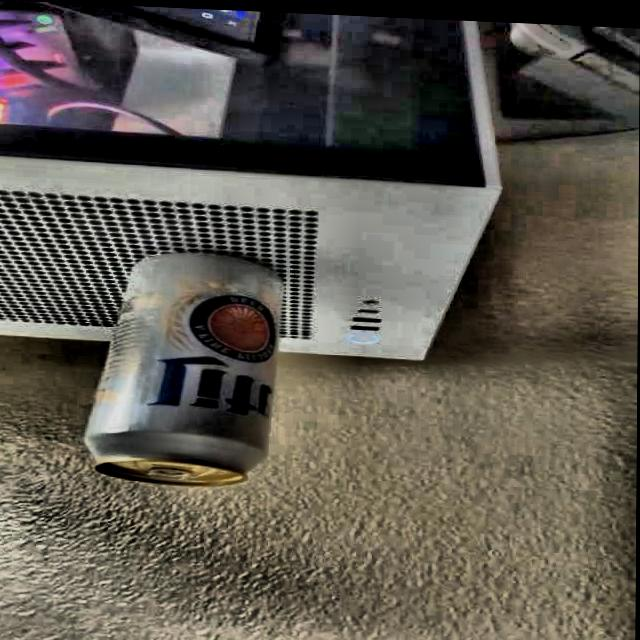can: (76, 232, 297, 500)
